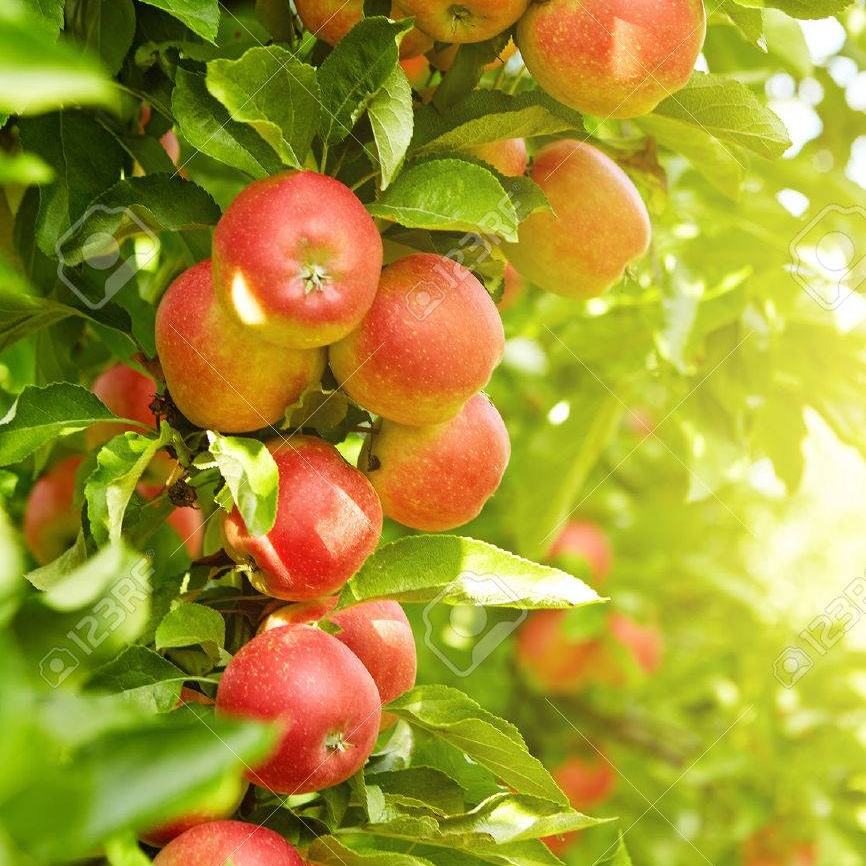apple: (213, 623, 389, 807), (151, 256, 319, 433), (203, 440, 384, 596), (219, 169, 388, 336), (486, 135, 653, 304), (349, 255, 507, 430), (343, 374, 510, 531), (524, 1, 706, 118), (319, 600, 422, 710), (150, 818, 311, 866)
